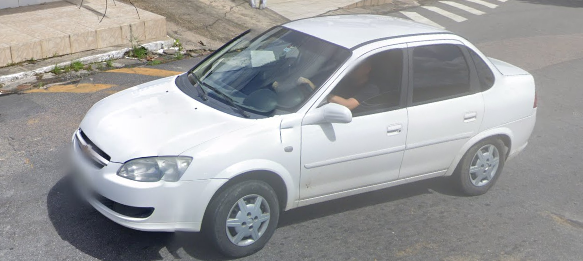car: (72, 16, 540, 257)
